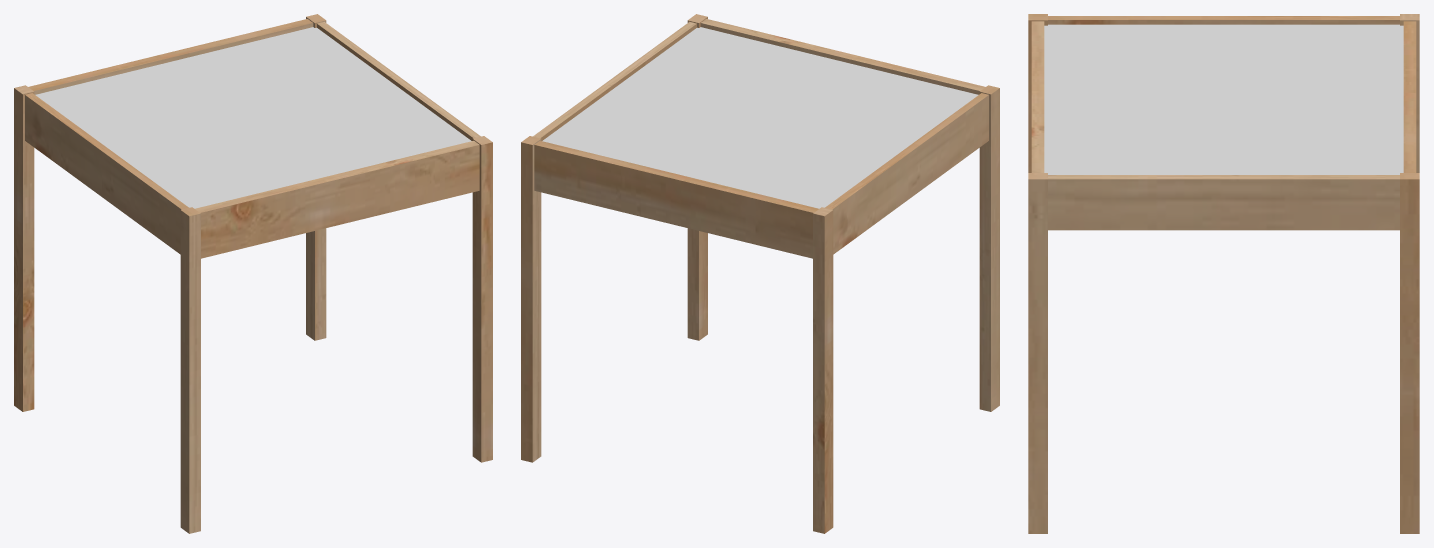
File: sh-scopia-children-table.glb
3 views of the same model, side by side, from view 1: azimuth 30°, elevation 25°; view 2: azimuth 150°, elevation 25°; view 3: azimuth 270°, elevation 25° (orthographic). The views are drawn at different scales.
Visible parts, largest first — view 1: table_Cube.002; view 2: table_Cube.002; view 3: table_Cube.002.
Boxes of the visible parts, x1,y1,x2,y2 form: table_Cube.002: (14, 14, 492, 533); table_Cube.002: (521, 14, 999, 533); table_Cube.002: (1028, 14, 1419, 533).
Size of the model in its own units: 1 by 1 by 1.
Materials: 2 (1 with a texture image).
